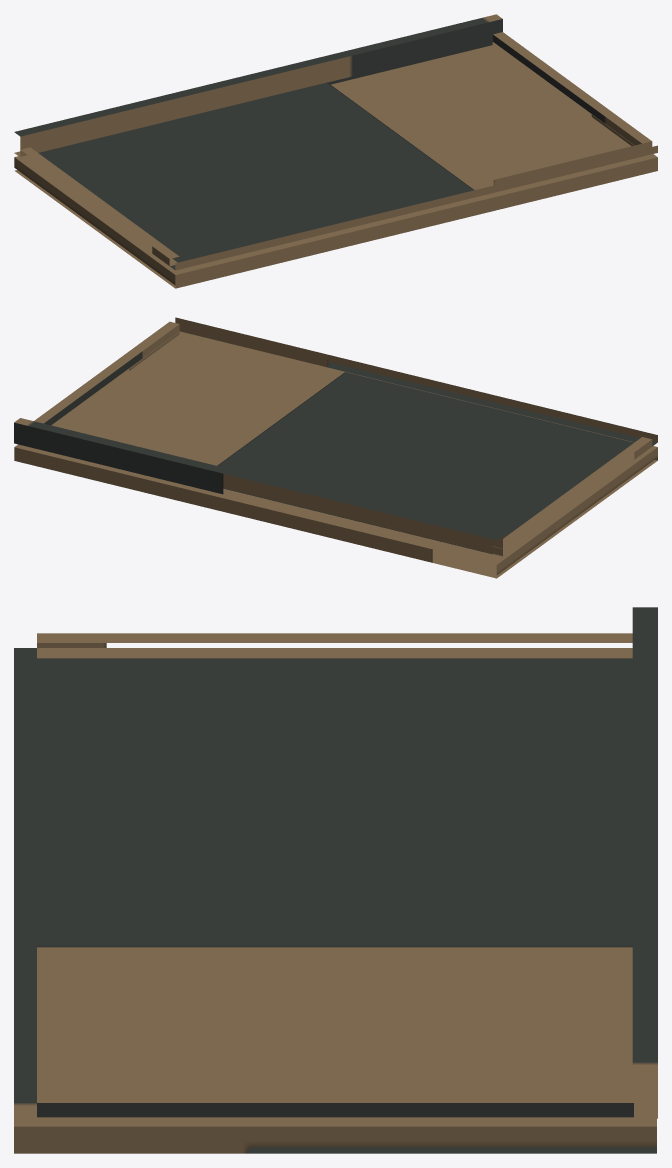
The picture shows the model from 3 angles, top to bottom: view 1: azimuth 30°, elevation 25°; view 2: azimuth 150°, elevation 25°; view 3: azimuth 270°, elevation 25°; orthographic projection. The views are drawn at different scales.
Size of the model in its own units: 2.23 by 0.1697 by 1.29.
